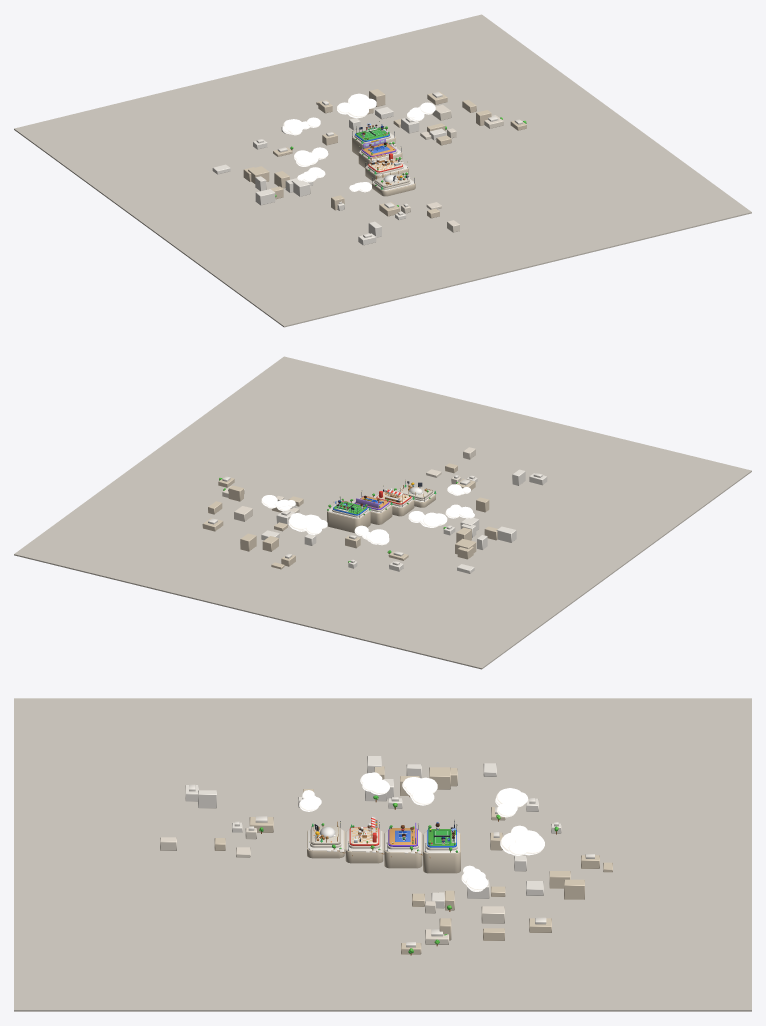
File: menu.glb
The picture shows the model from 3 angles, top to bottom: view 1: azimuth 30°, elevation 25°; view 2: azimuth 150°, elevation 25°; view 3: azimuth 270°, elevation 25°; orthographic projection. The views are drawn at different scales.
Visible parts, largest first — view 1: environment; view 2: environment; view 3: environment.
Boxes of the visible parts, x1,y1,x2,y2 form: environment: [14, 14, 751, 327]; environment: [14, 356, 751, 669]; environment: [14, 698, 751, 1011].
Size of the model in its own units: 80 by 4.89 by 80.
